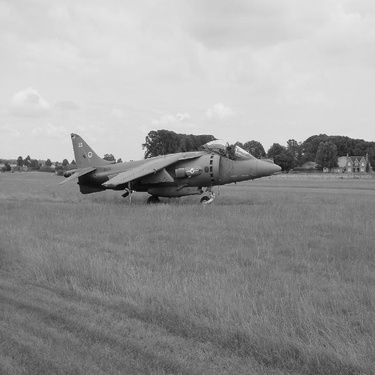airplane: (45, 120, 296, 214)
